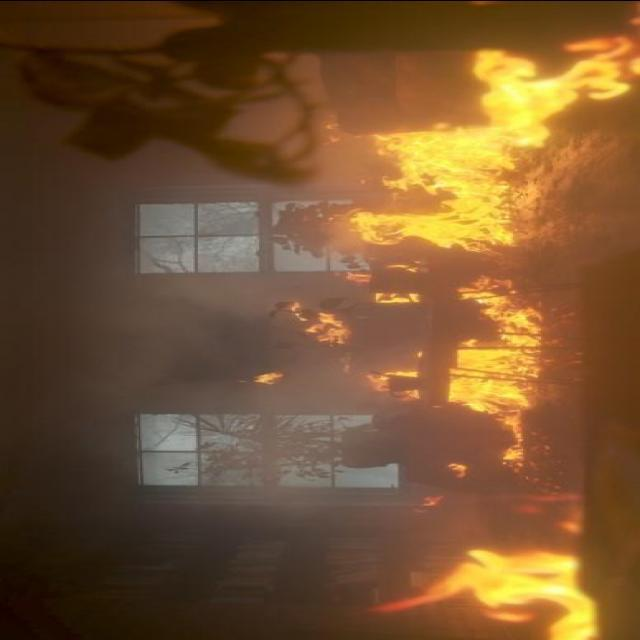Fire: (349, 37, 640, 249), (368, 274, 544, 462), (371, 550, 597, 640), (293, 300, 349, 346), (238, 372, 282, 383), (444, 462, 470, 478), (342, 272, 372, 282), (386, 262, 422, 270)
